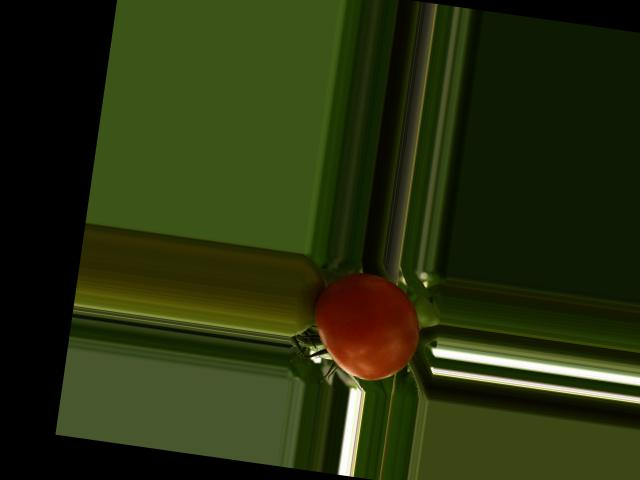tomato: (306, 266, 426, 386)
